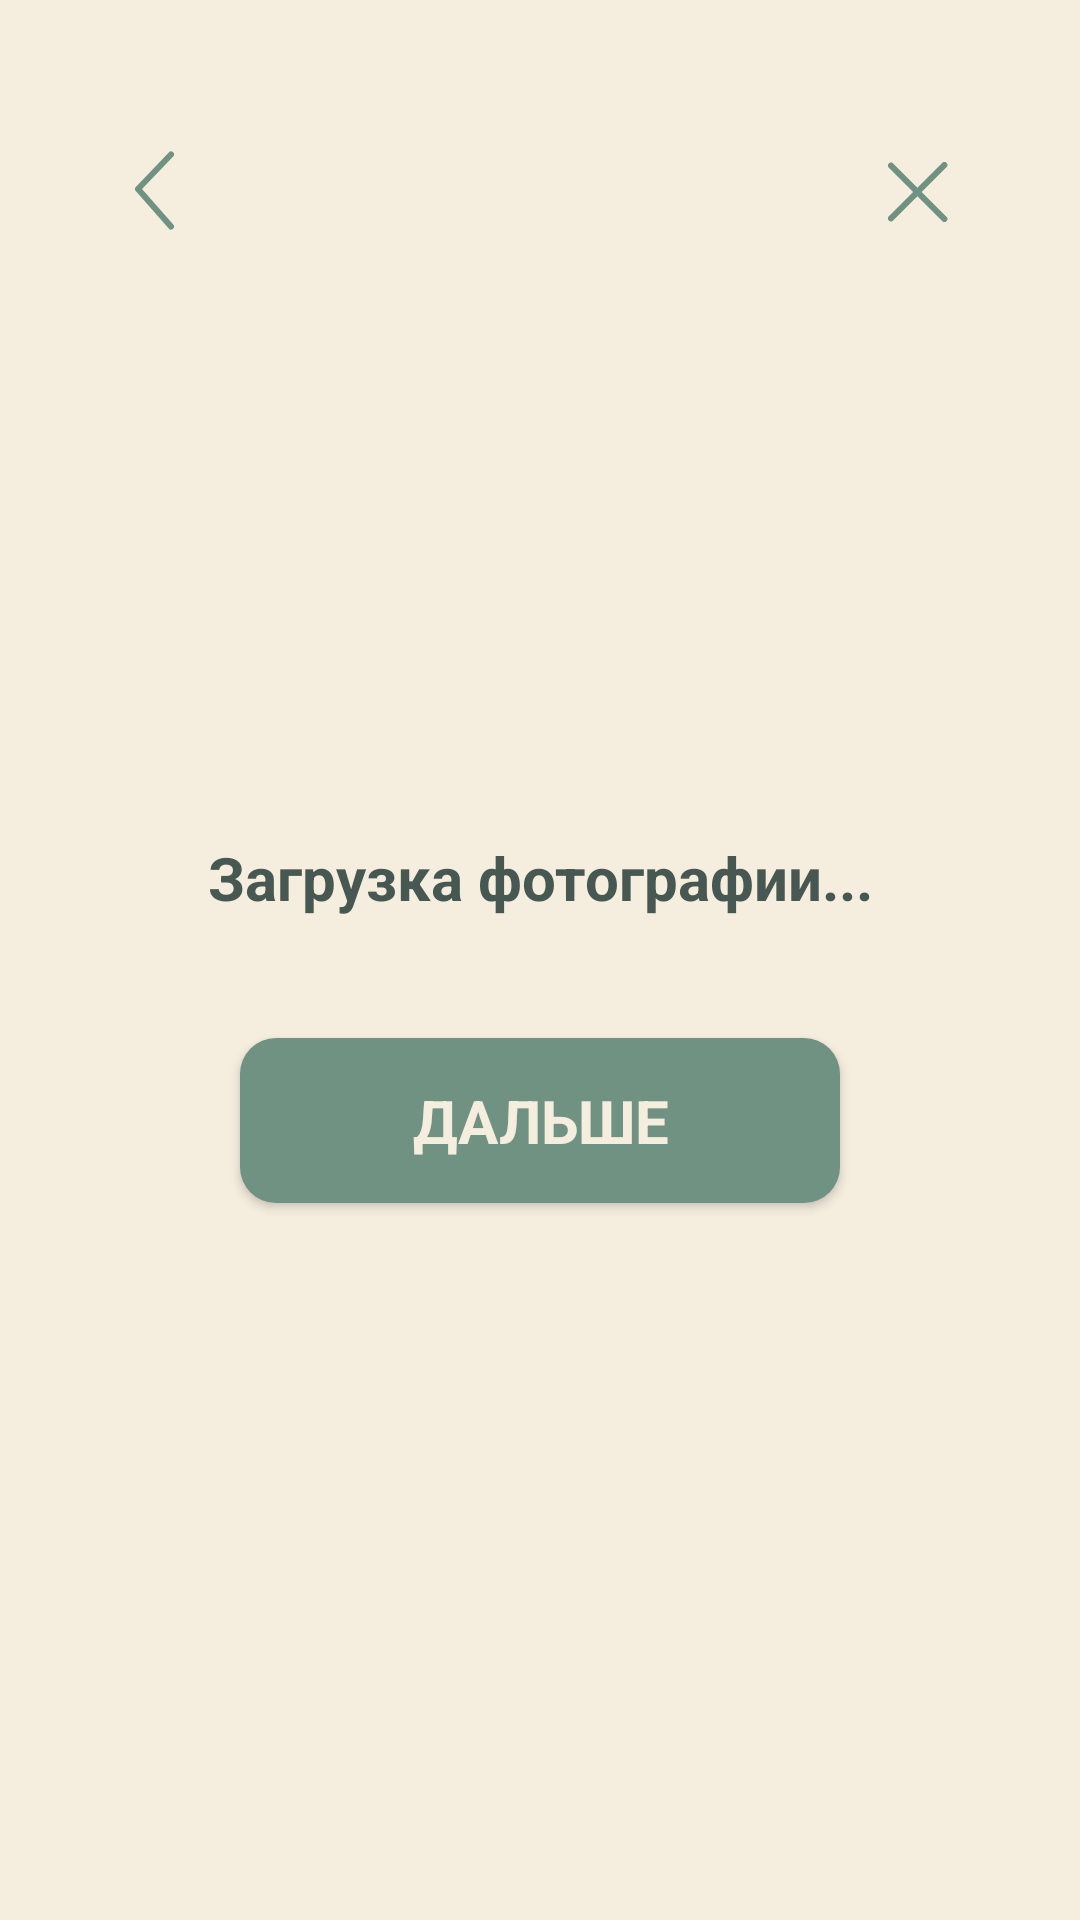

Where to tap for icons on this 1080 × 1920 app screen, as (x=x, y=y):
back arrow: (x=154, y=190)
cross close soft: (x=918, y=192)
